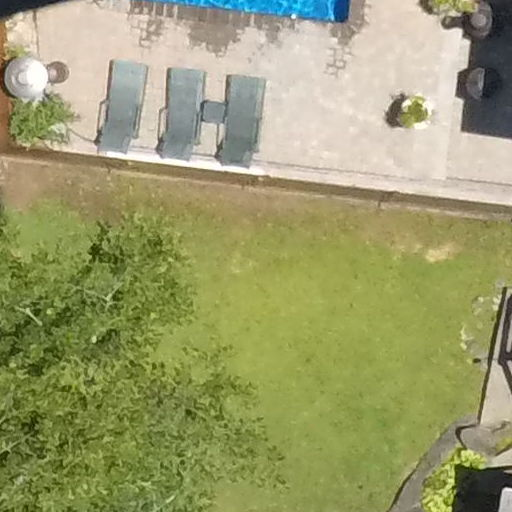container: (45, 58, 71, 86)
flower pot: (383, 87, 435, 134)
pool: (131, 1, 367, 35)
